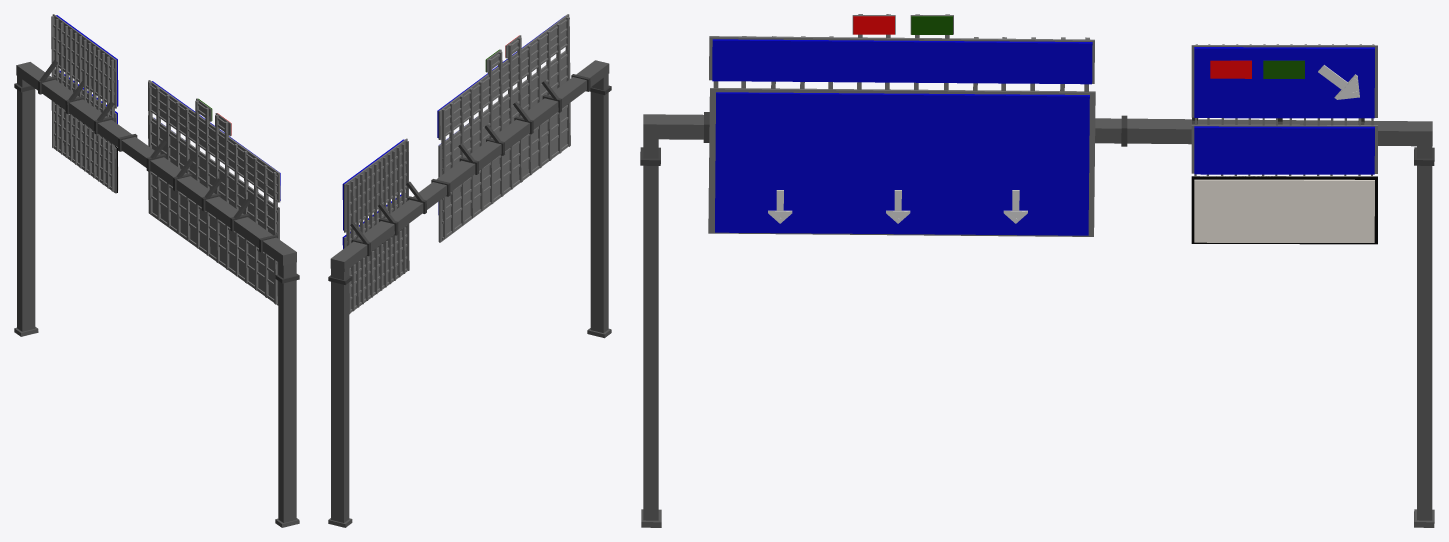
Rendered from french-sign-highway.dae.
3 views of the same model, side by side, from view 1: azimuth 30°, elevation 25°; view 2: azimuth 150°, elevation 25°; view 3: azimuth 270°, elevation 25° (orthographic). The views are drawn at different scales.
Parts seen in each view (by area): view 1: Cube.002, Cube.027, Cube.001, Cube, Cube.033, Cube.060, Cube.063, Cube.069, Cube.064, Cube.066, Cube.062, Cube.071 (+28 smaller); view 2: Cube.002, Cube.027, Cube, Cube.001, Cube.033, Cube.060, Cube.063, Cube.062, Cube.064, Cube.066, Cube.067, Cube.069 (+27 smaller); view 3: Cube.010, Cube.054, Cube.073, Cube.061, Cube.006, Cube.002, Cube.001, Cube, Cube.027, Cube.033, Cube.142, Cube.060.
Part boxes in pixels (x1=…): Cube.002: x1=16, y1=62, x2=296, y2=265; Cube.027: x1=148, y1=115, x2=279, y2=305; Cube.001: x1=278, y1=262, x2=296, y2=522; Cube: x1=17, y1=76, x2=35, y2=331; Cube.033: x1=148, y1=80, x2=280, y2=202; Cube.060: x1=52, y1=14, x2=116, y2=108; Cube.063: x1=53, y1=104, x2=116, y2=193; Cube.069: x1=224, y1=121, x2=229, y2=269; Cube.064: x1=205, y1=107, x2=210, y2=255; Cube.066: x1=195, y1=100, x2=199, y2=248; Cube.062: x1=215, y1=114, x2=219, y2=262; Cube.071: x1=253, y1=158, x2=258, y2=290; Cube.002: x1=330, y1=60, x2=609, y2=271; Cube.027: x1=438, y1=50, x2=567, y2=242; Cube: x1=331, y1=269, x2=349, y2=522; Cube.001: x1=590, y1=74, x2=608, y2=332; Cube.033: x1=438, y1=14, x2=569, y2=139; Cube.060: x1=344, y1=138, x2=407, y2=232; Cube.063: x1=350, y1=227, x2=407, y2=312; Cube.062: x1=507, y1=44, x2=513, y2=189; Cube.064: x1=498, y1=51, x2=503, y2=196; Cube.066: x1=488, y1=58, x2=493, y2=204; Cube.067: x1=469, y1=88, x2=474, y2=218; Cube.069: x1=517, y1=37, x2=522, y2=182; Cube.010: x1=715, y1=92, x2=1089, y2=235; Cube.054: x1=712, y1=39, x2=1092, y2=84; Cube.073: x1=1194, y1=179, x2=1374, y2=242; Cube.061: x1=1194, y1=47, x2=1374, y2=118; Cube.006: x1=1194, y1=126, x2=1374, y2=174; Cube.002: x1=643, y1=114, x2=1432, y2=146; Cube.001: x1=643, y1=139, x2=658, y2=520; Cube: x1=1417, y1=146, x2=1432, y2=520; Cube.027: x1=708, y1=88, x2=1095, y2=236; Cube.033: x1=709, y1=36, x2=1094, y2=83; Cube.142: x1=1191, y1=176, x2=1377, y2=244; Cube.060: x1=1191, y1=45, x2=1377, y2=117.
Size of the model in its own units: 0.8763 by 16.95 by 12.11.
